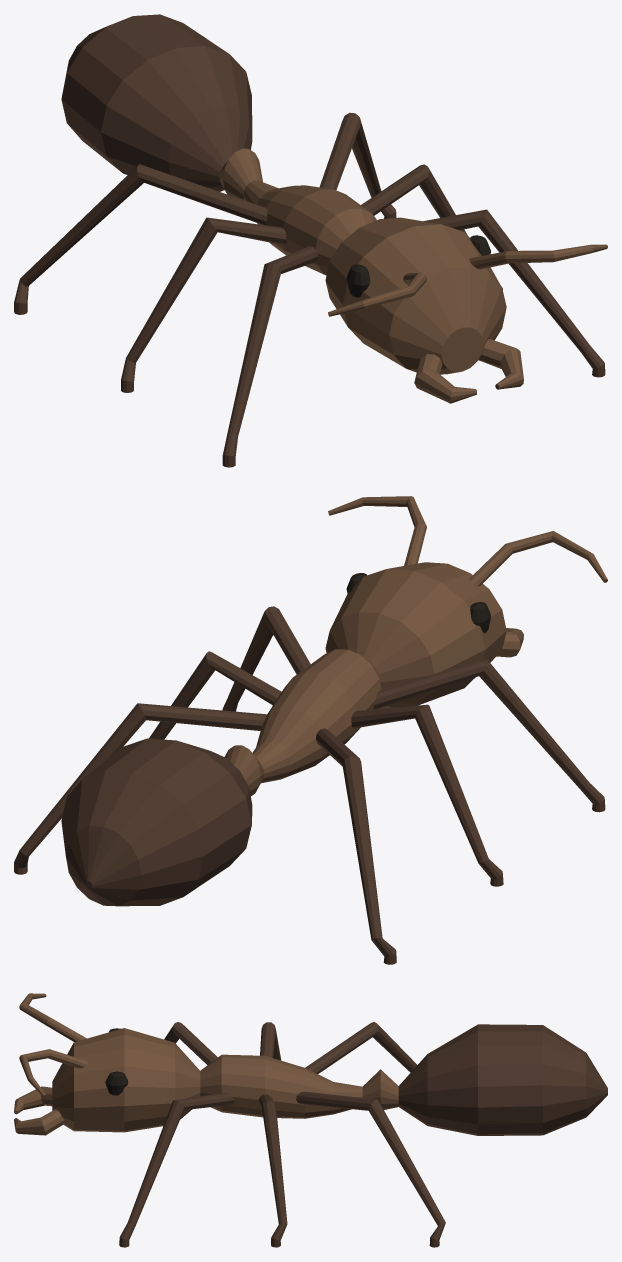
The picture shows the model from 3 angles, top to bottom: view 1: azimuth 30°, elevation 25°; view 2: azimuth 150°, elevation 25°; view 3: azimuth 270°, elevation 25°; orthographic projection. The views are drawn at different scales.
Parts seen in each view (by area): view 1: WholeHeadMiddleBodyNodalWaistAndGaster, WholeMiddleBodyWalkingLeg02, WholeMiddleBodyWalkingLeg01, WholeMiddleBodyWalkingLeg00, WholeMiddleBodyWalkingLeg10, WholeMiddleBodyWalkingLeg12, WholeMiddleBodyWalkingLeg11, WholeElbowedAntenna1, WholeShortCurvedMandible0, WholeShortCurvedMandible1, WholeElbowedAntenna0, WholeLowLateralEye0; view 2: WholeHeadMiddleBodyNodalWaistAndGaster, WholeMiddleBodyWalkingLeg00, WholeMiddleBodyWalkingLeg12, WholeMiddleBodyWalkingLeg02, WholeMiddleBodyWalkingLeg01, WholeMiddleBodyWalkingLeg10, WholeMiddleBodyWalkingLeg11, WholeElbowedAntenna0, WholeElbowedAntenna1; view 3: WholeHeadMiddleBodyNodalWaistAndGaster, WholeMiddleBodyWalkingLeg12, WholeMiddleBodyWalkingLeg10, WholeMiddleBodyWalkingLeg11, WholeMiddleBodyWalkingLeg02, WholeElbowedAntenna1, WholeShortCurvedMandible1, WholeElbowedAntenna0, WholeMiddleBodyWalkingLeg00, WholeShortCurvedMandible0, WholeMiddleBodyWalkingLeg01, WholeLowLateralEye1.
Part boxes in pixels (x1,y1,x2,y2): WholeHeadMiddleBodyNodalWaistAndGaster: (61, 14, 506, 374); WholeMiddleBodyWalkingLeg02: (14, 164, 267, 314); WholeMiddleBodyWalkingLeg01: (121, 217, 286, 392); WholeMiddleBodyWalkingLeg00: (222, 246, 318, 467); WholeMiddleBodyWalkingLeg10: (423, 209, 605, 377); WholeMiddleBodyWalkingLeg12: (319, 112, 396, 218); WholeMiddleBodyWalkingLeg11: (361, 164, 502, 289); WholeElbowedAntenna1: (469, 244, 607, 269); WholeShortCurvedMandible0: (414, 354, 476, 403); WholeShortCurvedMandible1: (479, 339, 523, 389); WholeElbowedAntenna0: (328, 272, 426, 316); WholeLowLateralEye0: (346, 264, 370, 297); WholeHeadMiddleBodyNodalWaistAndGaster: (61, 562, 506, 906); WholeMiddleBodyWalkingLeg00: (373, 658, 605, 812); WholeMiddleBodyWalkingLeg12: (14, 703, 267, 874); WholeMiddleBodyWalkingLeg02: (316, 728, 396, 964); WholeMiddleBodyWalkingLeg01: (351, 704, 503, 886); WholeMiddleBodyWalkingLeg10: (222, 606, 310, 711); WholeMiddleBodyWalkingLeg11: (149, 651, 281, 739); WholeElbowedAntenna0: (469, 531, 607, 586); WholeElbowedAntenna1: (328, 496, 426, 565); WholeHeadMiddleBodyNodalWaistAndGaster: (52, 1024, 607, 1135); WholeMiddleBodyWalkingLeg12: (296, 1091, 445, 1247); WholeMiddleBodyWalkingLeg10: (119, 1092, 234, 1247); WholeMiddleBodyWalkingLeg11: (259, 1094, 287, 1247); WholeMiddleBodyWalkingLeg02: (305, 1022, 417, 1073); WholeElbowedAntenna1: (19, 1049, 87, 1097); WholeShortCurvedMandible1: (14, 1109, 64, 1135); WholeElbowedAntenna0: (19, 993, 86, 1041); WholeMiddleBodyWalkingLeg00: (164, 1022, 217, 1064); WholeShortCurvedMandible0: (14, 1086, 52, 1114); WholeMiddleBodyWalkingLeg01: (260, 1022, 281, 1060); WholeLowLateralEye1: (105, 1071, 128, 1095).
Bounding box in the file's own units: 0.9077 × 0.4567 × 1.65.
